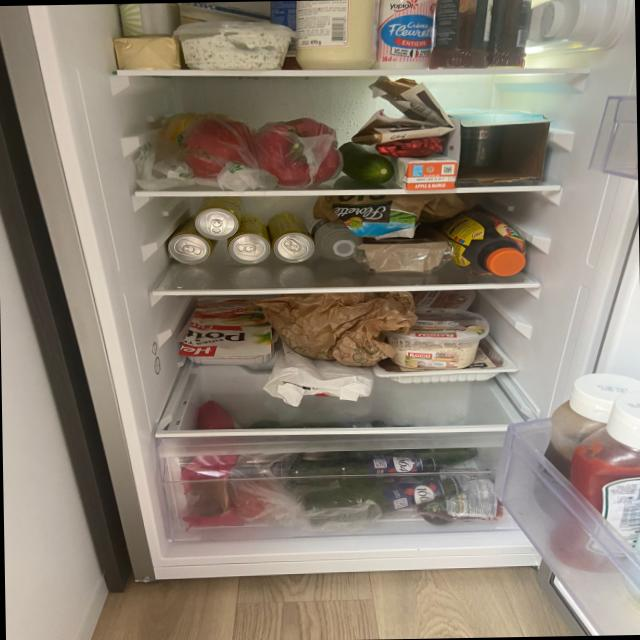Carne cerdo: (182, 294, 279, 364)
Mantequilla: (112, 34, 181, 70)
Queso: (392, 307, 482, 372)
Tomate: (358, 230, 448, 274)
Yogur: (376, 0, 441, 71)
